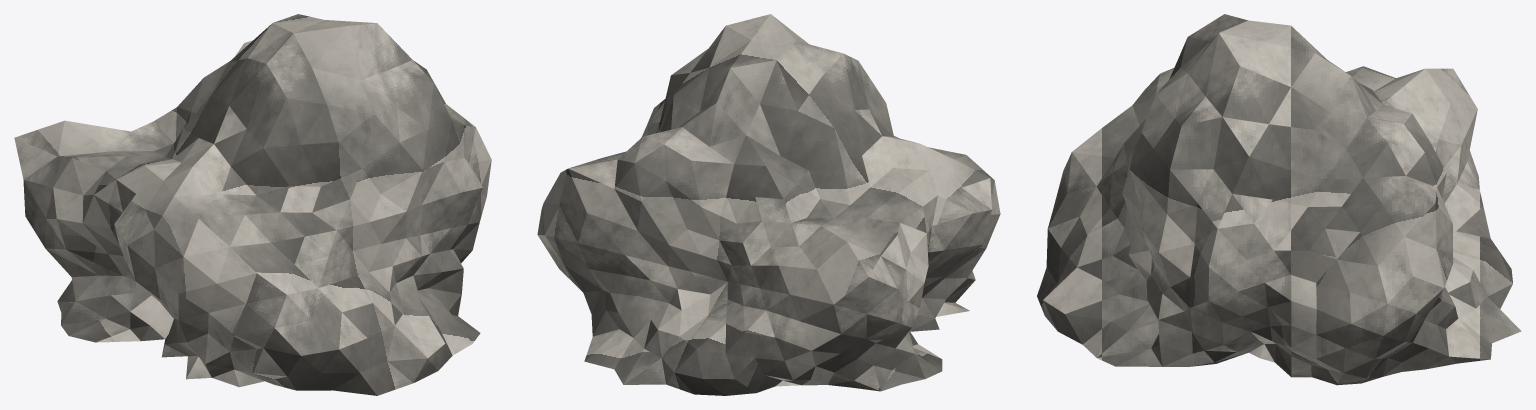
Rendered from terrain2_rock_2.glb.
3 views of the same model, side by side, from view 1: azimuth 30°, elevation 25°; view 2: azimuth 150°, elevation 25°; view 3: azimuth 270°, elevation 25° (orthographic). The views are drawn at different scales.
Size of the model in its own units: 5.56 by 3.77 by 5.73.
Materials: 1 (1 with a texture image).
